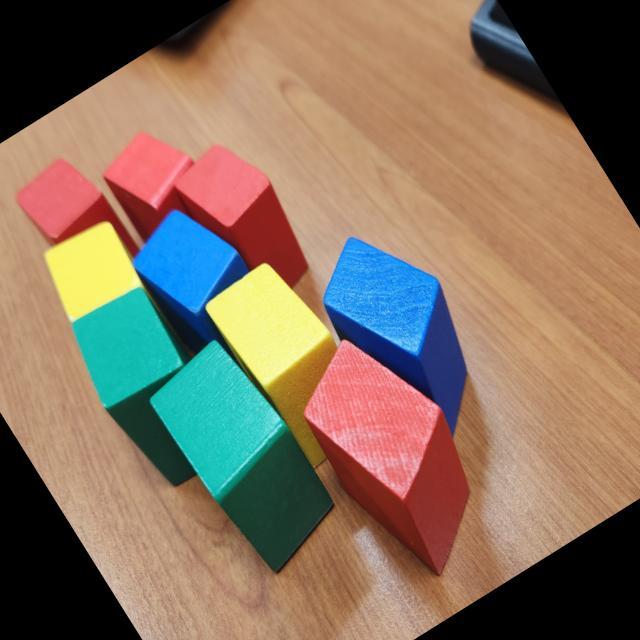blue: (298, 208, 514, 460), (118, 190, 280, 364)
green: (138, 328, 352, 582), (56, 276, 250, 498)
red: (273, 314, 515, 596), (162, 129, 326, 317), (8, 146, 144, 296), (92, 113, 222, 250)
yellow: (200, 251, 389, 474), (31, 212, 148, 327)
